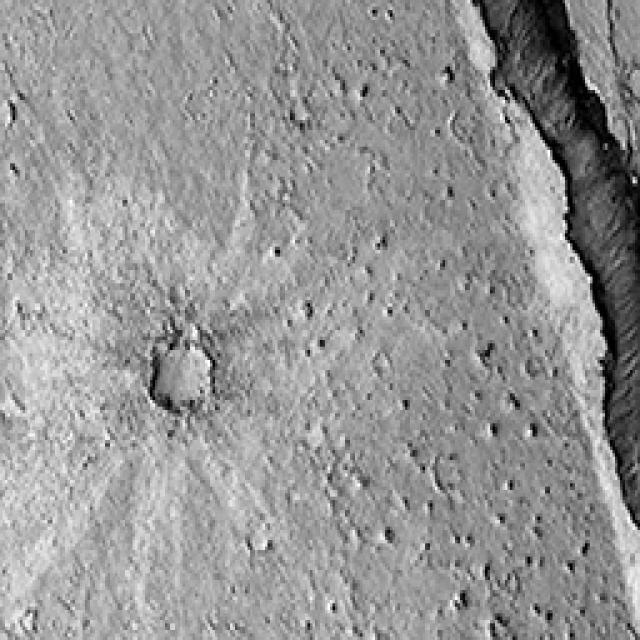Crater: (118, 303, 282, 487)
